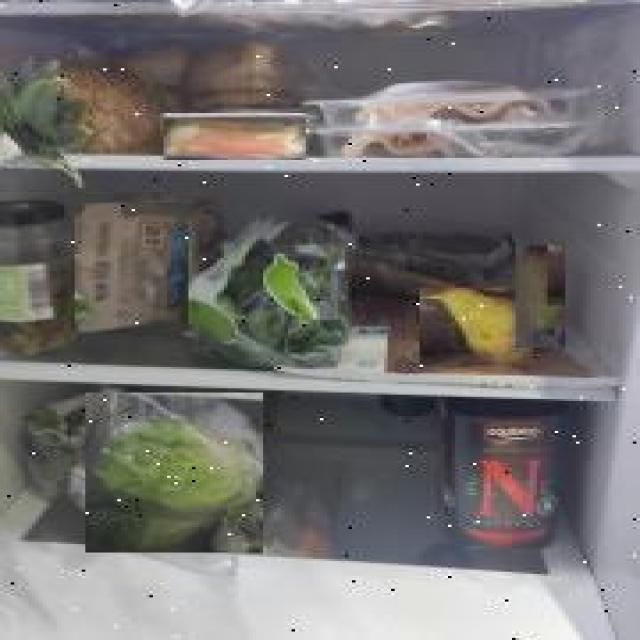bread: (74, 202, 188, 332)
cheese: (165, 113, 308, 160)
pear: (419, 288, 534, 365), (516, 245, 566, 348)
pineapple: (0, 53, 164, 192)
salad: (87, 392, 265, 552)
